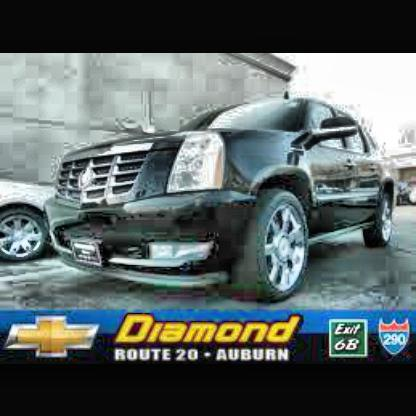Cadillac Escalade EXT Crew Cab 2007: (44, 96, 400, 298)
